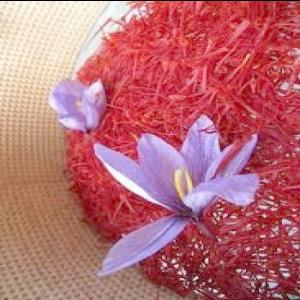Saffron: (96, 127, 260, 277), (50, 72, 105, 132)
